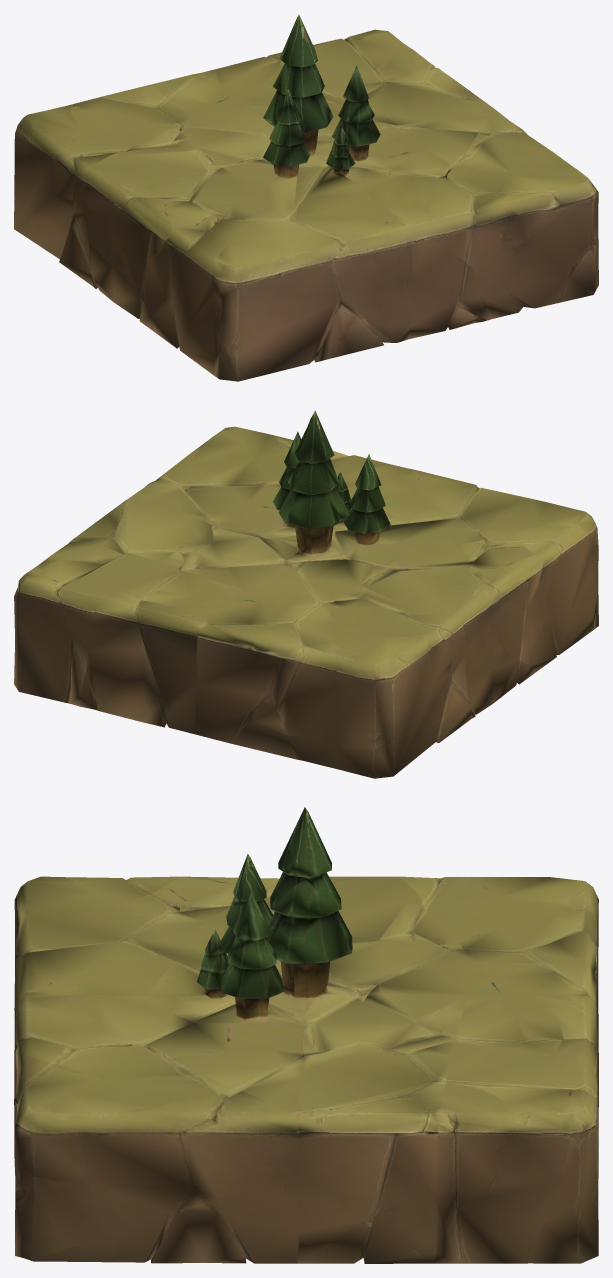
Rendered from forest.glb.
3 views of the same model, one above another, from view 1: azimuth 30°, elevation 25°; view 2: azimuth 150°, elevation 25°; view 3: azimuth 270°, elevation 25° (orthographic). The views are drawn at different scales.
Bounding box in the file's own units: 1.9 × 1.18 × 1.9.
1 material, 1 textured.
